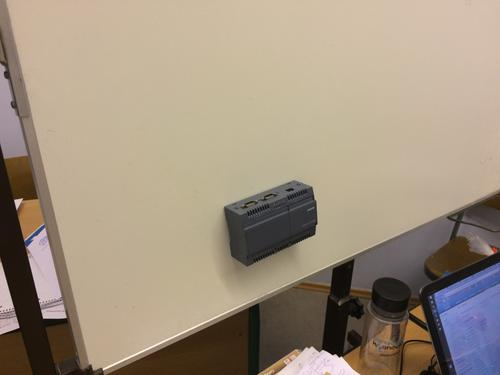iot2000: (224, 180, 319, 269)
